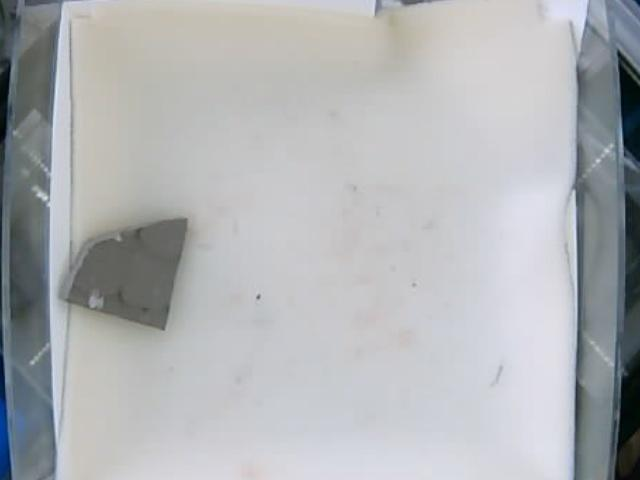China: (61, 208, 185, 330)
